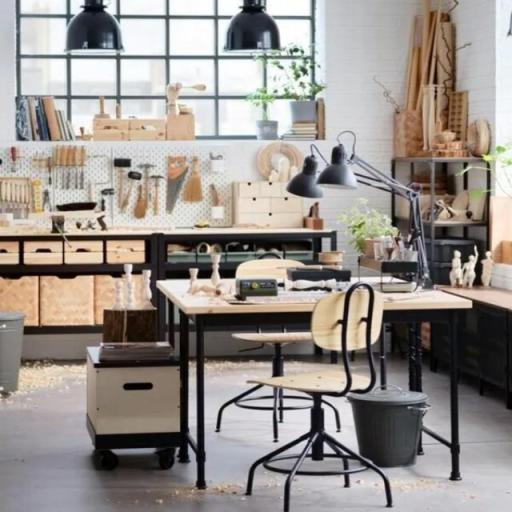table: (144, 268, 491, 343)
